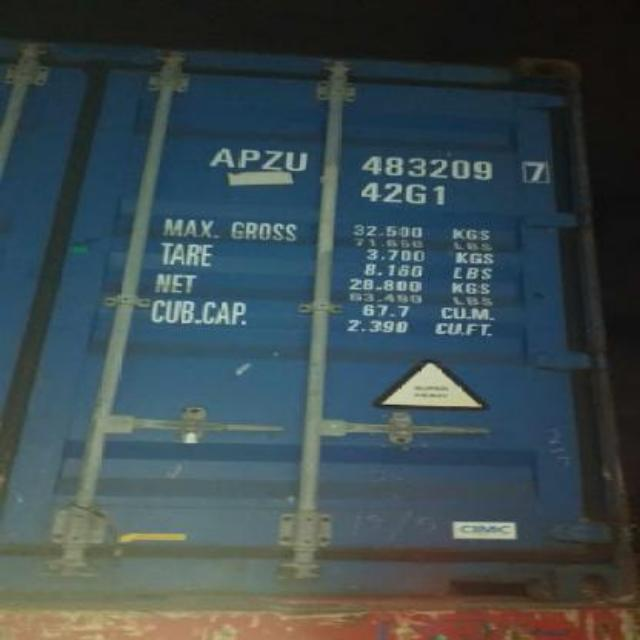0: (448, 154, 468, 183)
2: (424, 154, 452, 182)
3: (406, 153, 428, 179)
4: (348, 153, 384, 180)
7: (522, 156, 552, 184)
8: (384, 152, 406, 178)
9: (466, 158, 496, 184)
A: (204, 138, 234, 172)
P: (238, 144, 260, 176)
U: (280, 142, 310, 174)
Z: (258, 146, 280, 172)
